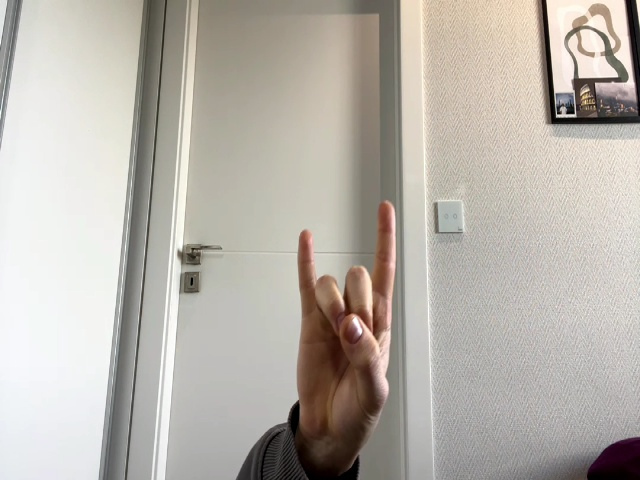Y: (298, 200, 396, 445)
